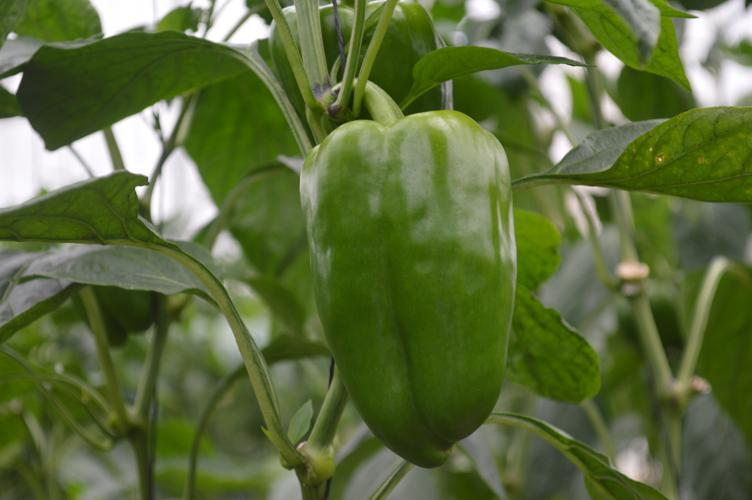BellPepper: (296, 115, 532, 470)
